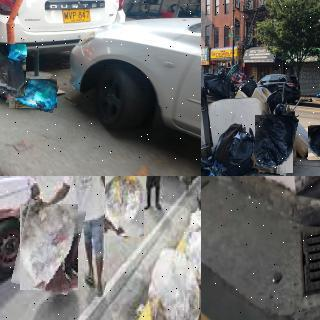Garbage: (16, 202, 82, 292), (145, 244, 201, 320), (252, 113, 296, 175), (103, 176, 145, 236), (217, 124, 258, 175), (184, 207, 201, 310), (8, 77, 58, 111), (0, 43, 26, 97), (207, 70, 232, 99), (307, 125, 320, 160), (267, 86, 282, 110), (240, 75, 257, 96)
